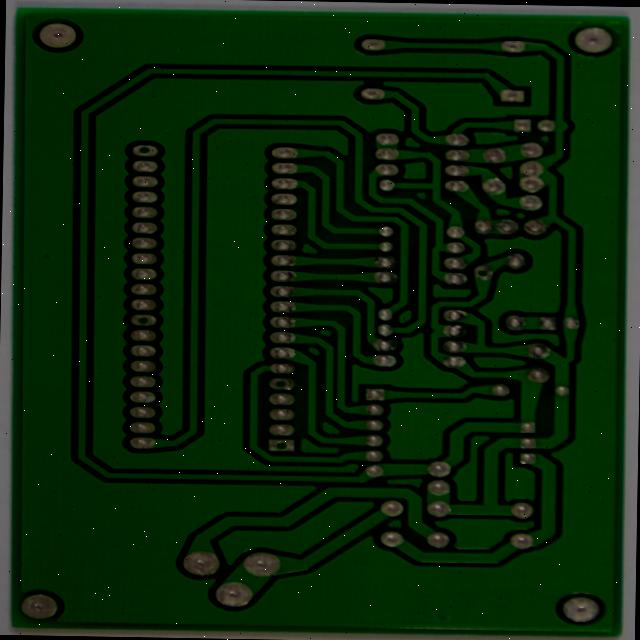missing_hole: (51, 107, 89, 127), (211, 420, 246, 440), (51, 287, 86, 307), (446, 237, 476, 259), (210, 356, 245, 374)
